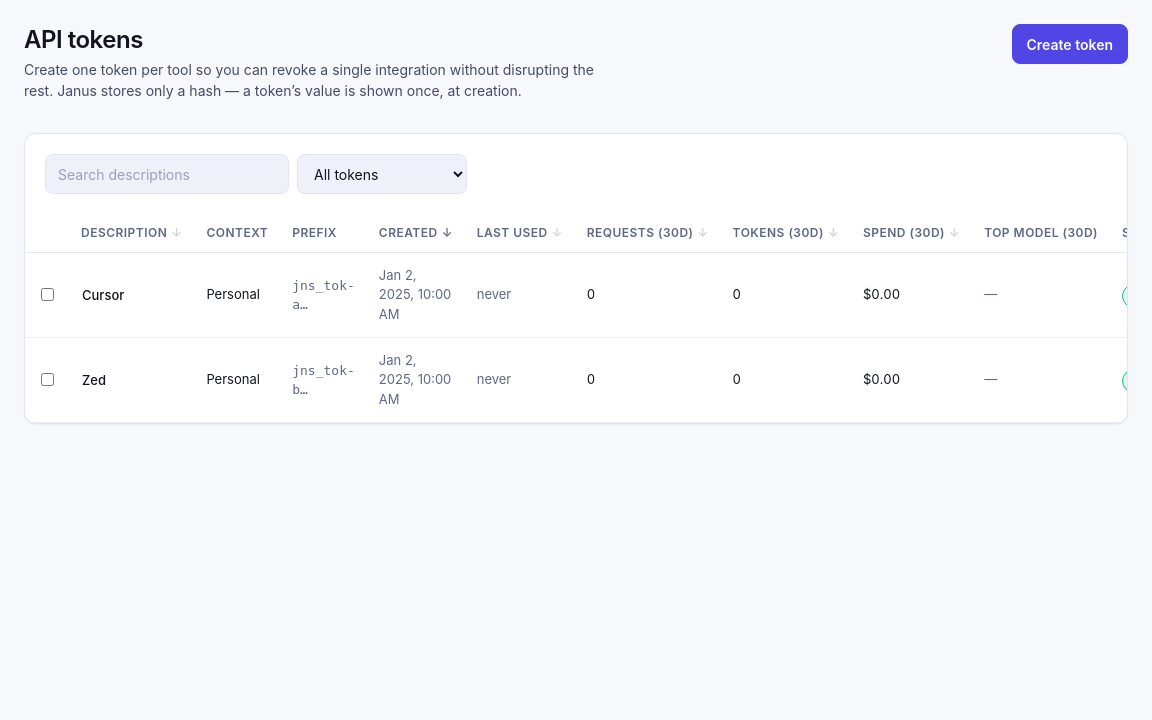
Test: bulk revoke › keeps failed tokens selected and shows a summary toast on partial failure
The width and height of the screenshot is (1152, 720).
Click the checkbox named "Select Cursor" at (48, 294), box x1=41 y1=288 x2=54 y2=301
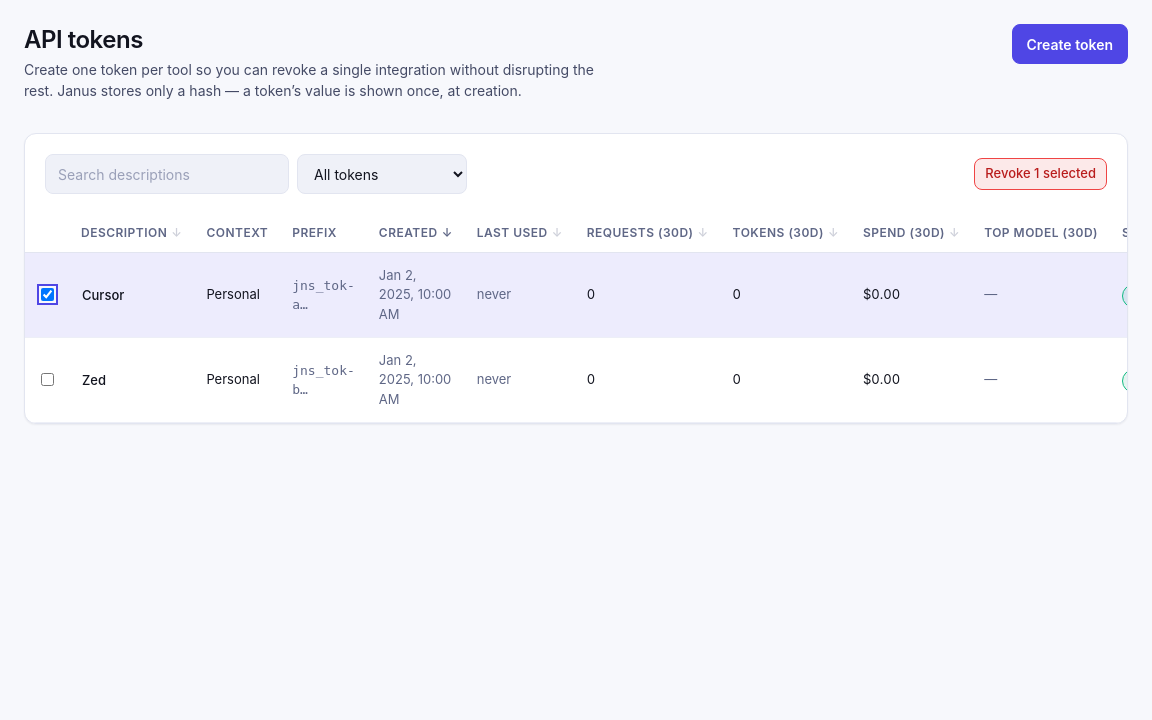
Click the checkbox named "Select Zed" at (48, 379), box x1=41 y1=373 x2=54 y2=386
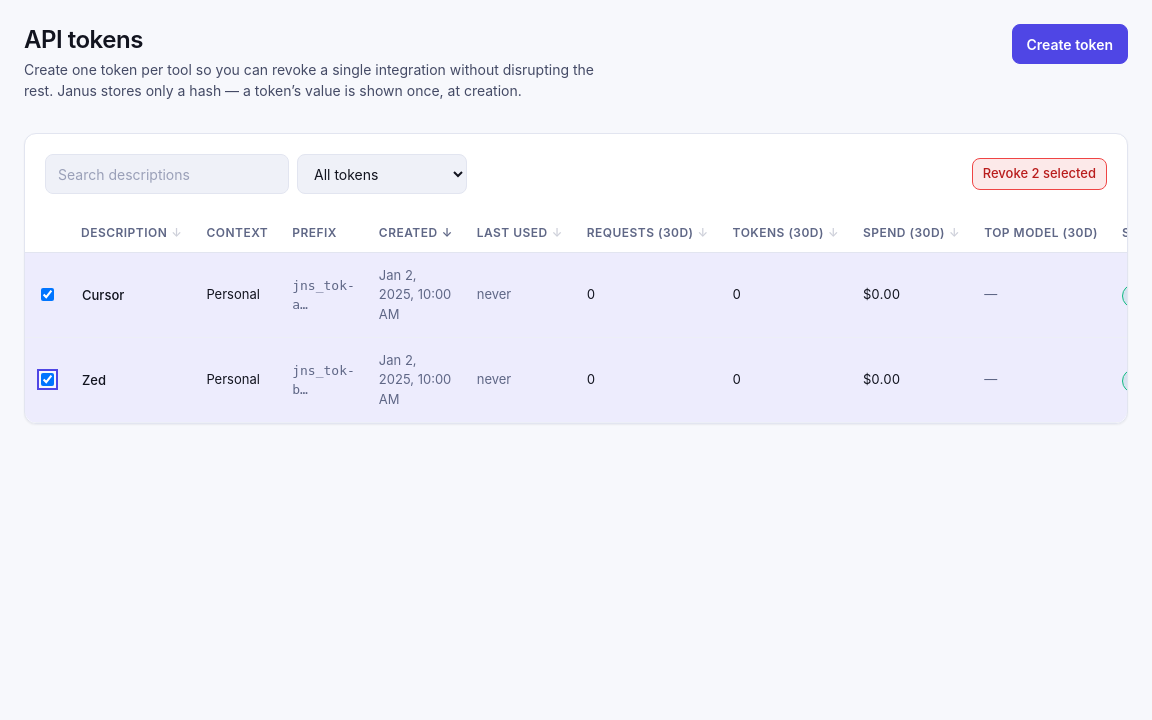
Click the button "Revoke 2 selected" at (1039, 174), box x1=972 y1=158 x2=1107 y2=190
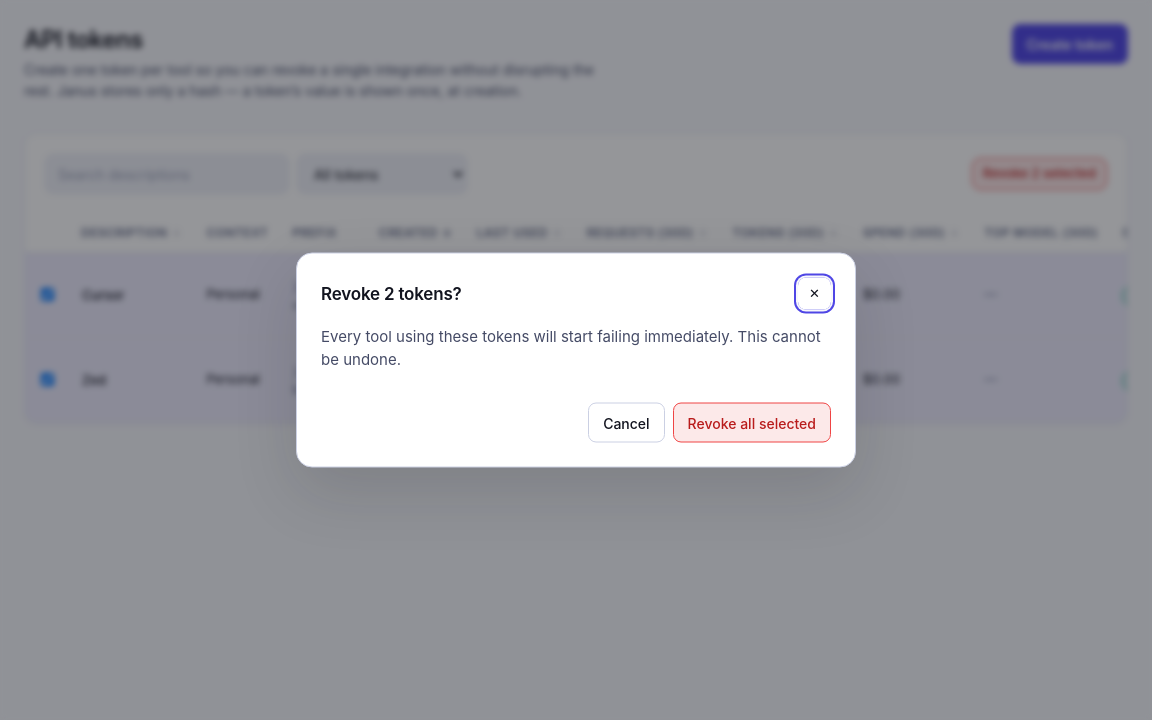
Click the button "Revoke all selected" at (752, 422), box x1=673 y1=402 x2=831 y2=442
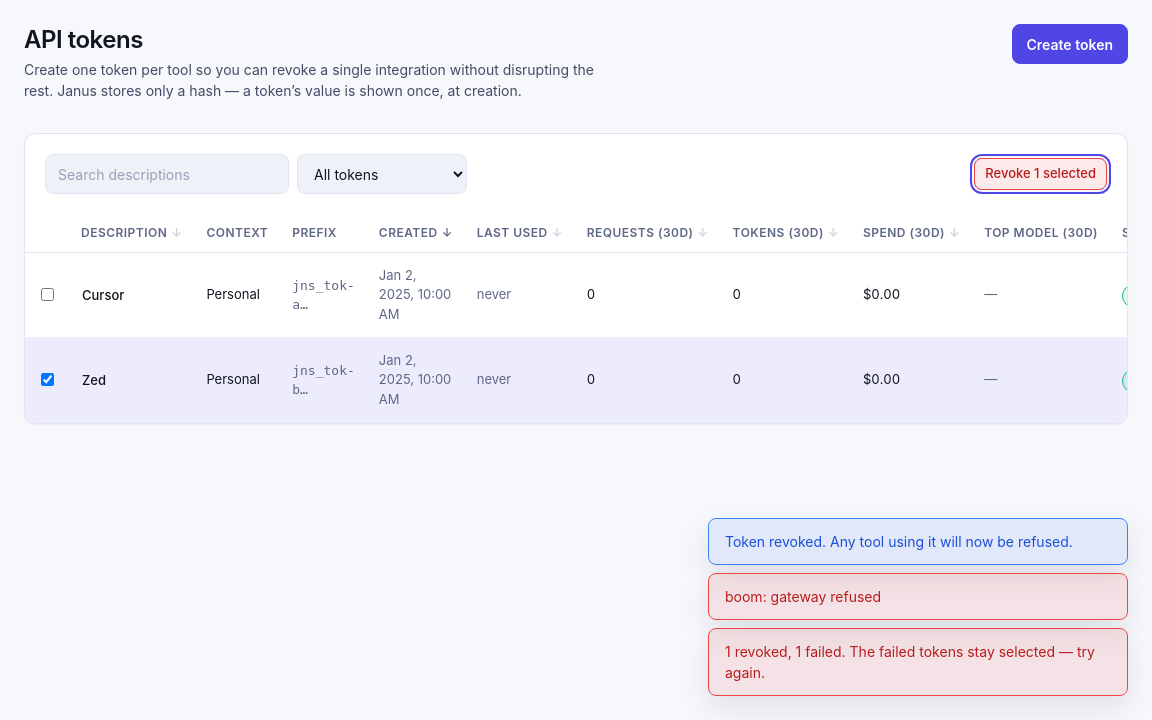
Result: the checkbox named "Select Zed" is checked at x1=41 y1=373 x2=54 y2=386
Result: the checkbox named "Select Cursor" is not checked at x1=41 y1=288 x2=54 y2=301
Result: the text "1 revoked, 1 failed. The failed tokens stay selected — try again." is shown at x1=708 y1=628 x2=1128 y2=696
